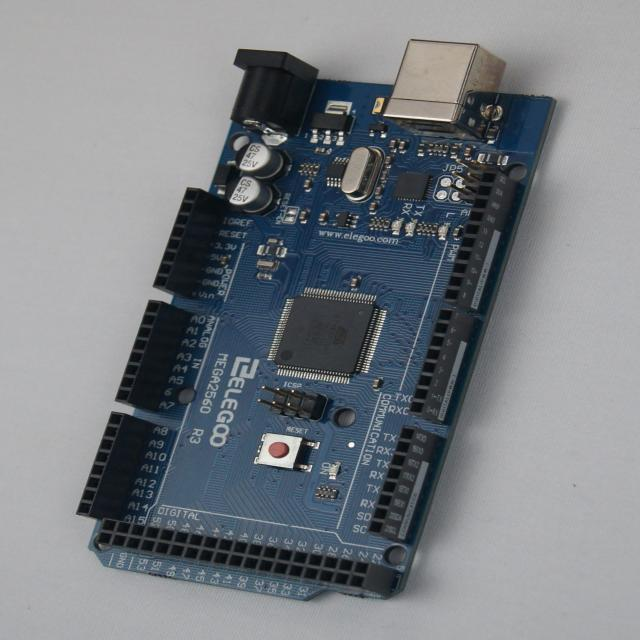Arduino Mega 2560 -Blue-: (78, 52, 555, 600)
